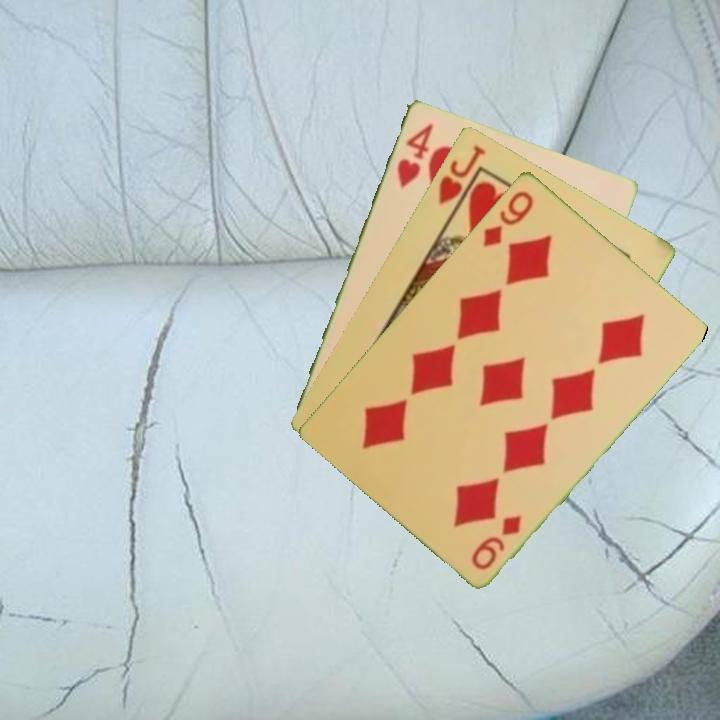4h: (393, 118, 436, 191)
9d: (479, 186, 537, 250), (467, 510, 525, 573)
Jh: (434, 141, 489, 221)
